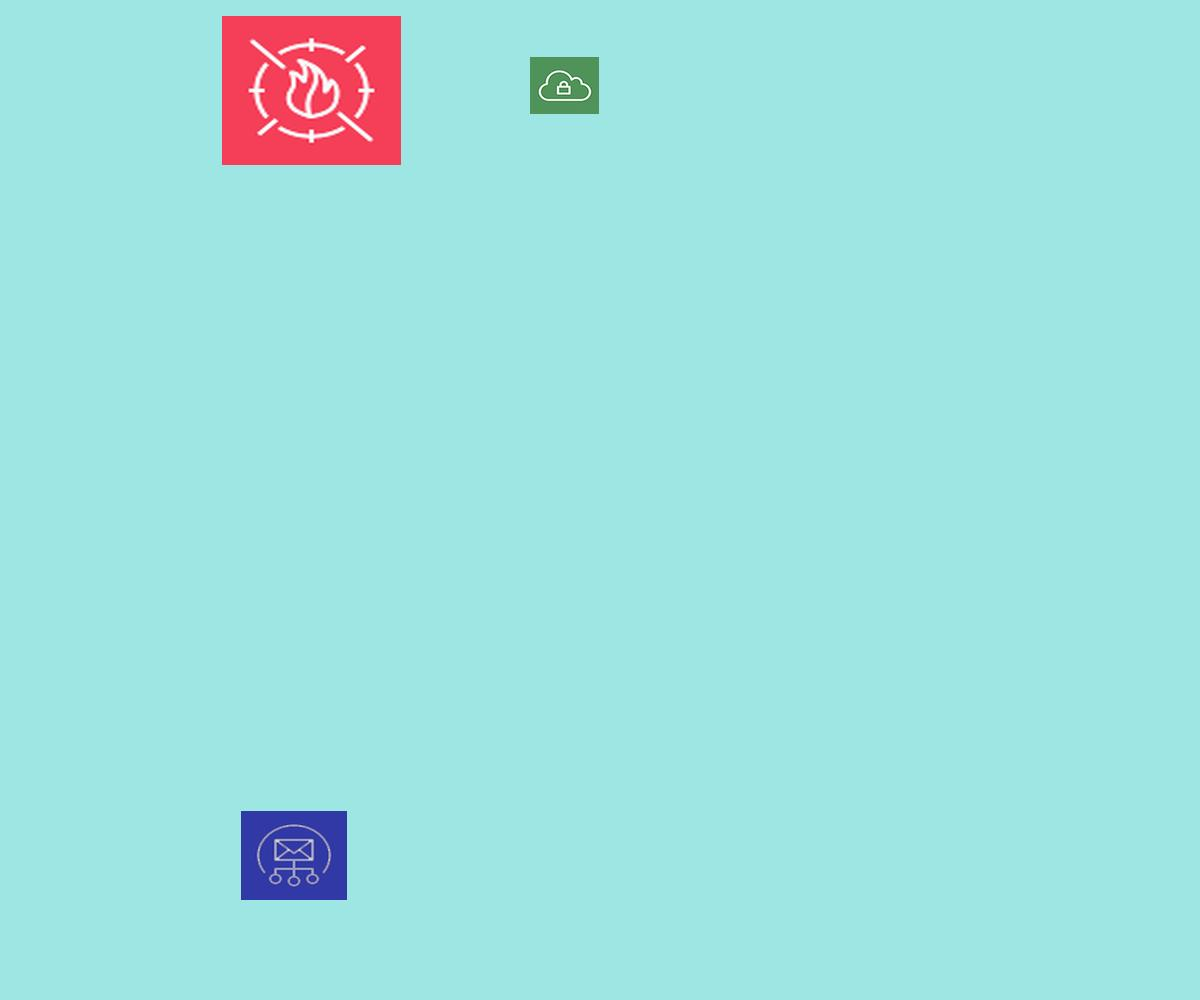AWS-Private_vpc: (530, 57, 599, 114)
AWS-Simple-Email-Service: (241, 811, 347, 900)
AWS-WAF: (222, 16, 401, 165)
